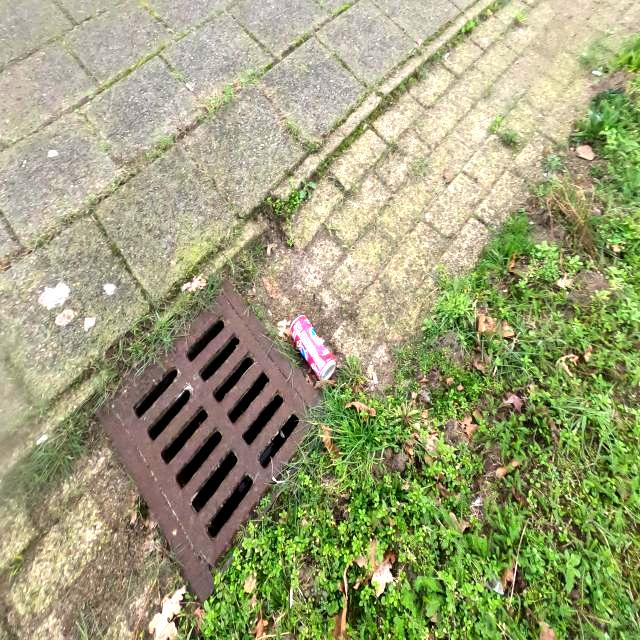Metal: (289, 312, 337, 382)
